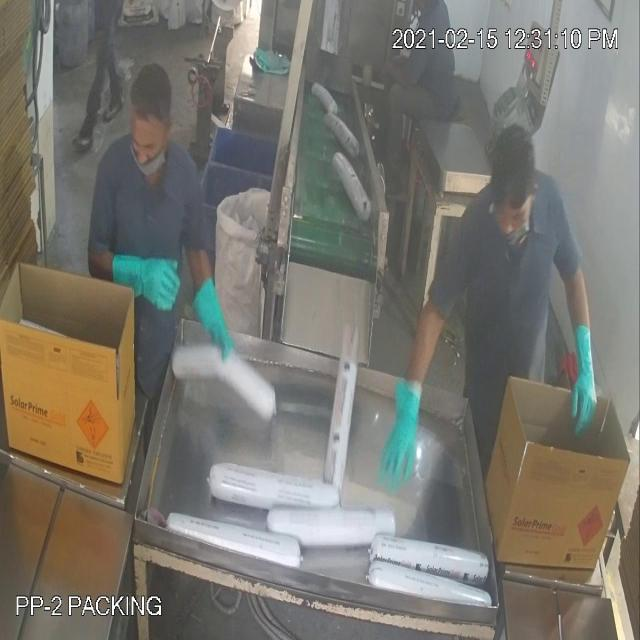gloves: (105, 233, 183, 331), (379, 354, 425, 493), (564, 302, 604, 452), (183, 269, 234, 368)
